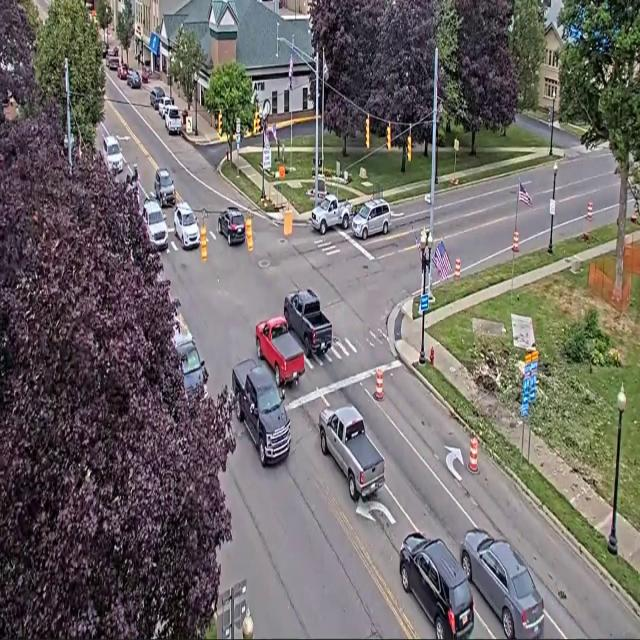car: (461, 529, 544, 639), (400, 532, 474, 639), (352, 200, 390, 240), (143, 199, 168, 250), (174, 202, 200, 249), (218, 208, 245, 246), (154, 168, 175, 207), (102, 136, 123, 173), (164, 105, 181, 135), (158, 96, 173, 119), (150, 87, 164, 110), (127, 70, 142, 89), (107, 54, 119, 70), (118, 63, 128, 79), (141, 67, 149, 83), (102, 42, 108, 58), (111, 47, 119, 56)
traffic signal: (245, 216, 253, 252), (200, 223, 207, 262), (386, 124, 392, 151), (253, 112, 259, 135), (407, 135, 411, 161), (218, 111, 222, 136), (366, 116, 369, 149), (548, 107, 552, 123)
truck: (232, 359, 290, 466), (319, 406, 384, 501), (256, 317, 305, 386), (284, 289, 332, 357), (173, 322, 208, 394), (311, 194, 352, 235)
